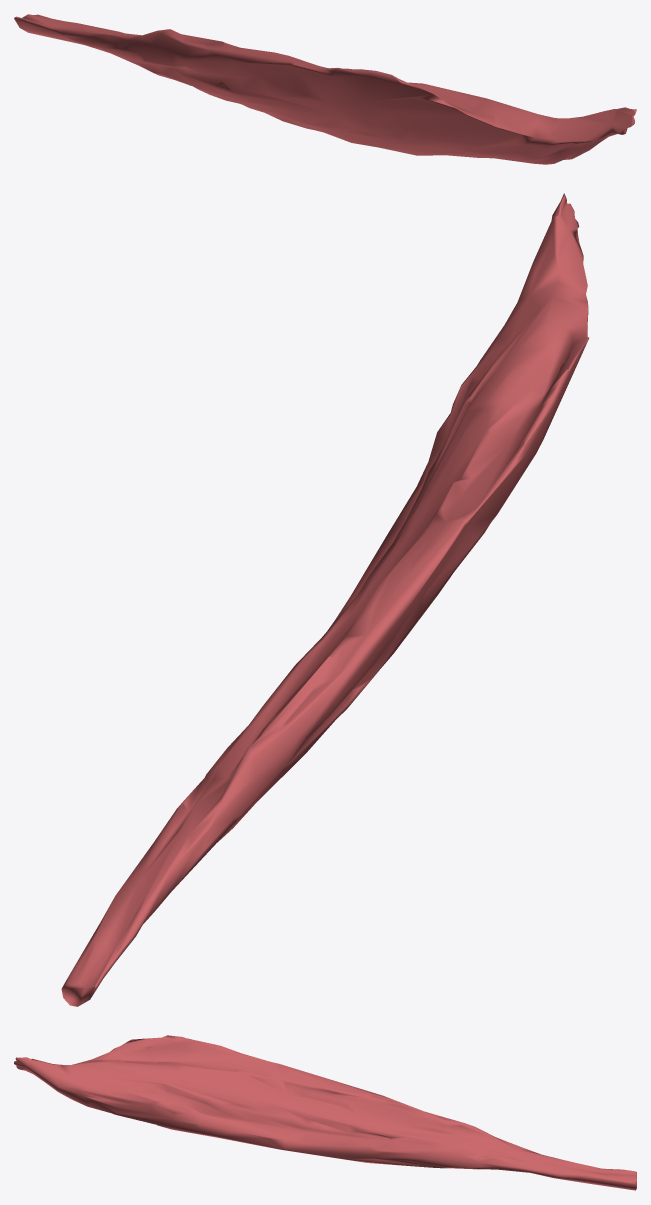
3 views of the same model, one above another, from view 1: azimuth 30°, elevation 25°; view 2: azimuth 150°, elevation 25°; view 3: azimuth 270°, elevation 25° (orthographic). The views are drawn at different scales.
Visible parts, largest first — view 1: 右侧指浅屈肌桡头; view 2: 右侧指浅屈肌桡头; view 3: 右侧指浅屈肌桡头.
Part boxes in pixels (x1,y1,x2,y2): 右侧指浅屈肌桡头: (14,14,636,164); 右侧指浅屈肌桡头: (61,193,588,1006); 右侧指浅屈肌桡头: (14,1035,636,1190).
Bounding box in the file's own units: 0.0428 × 0.0791 × 0.2725.
